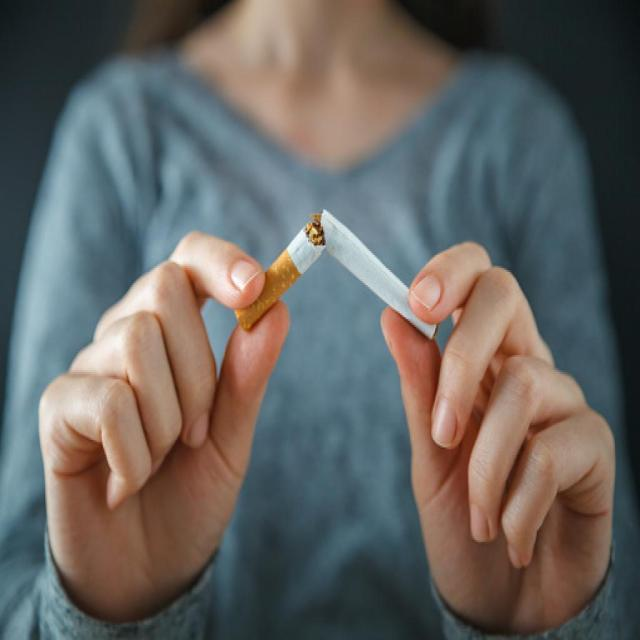smoking: (224, 206, 449, 429)
